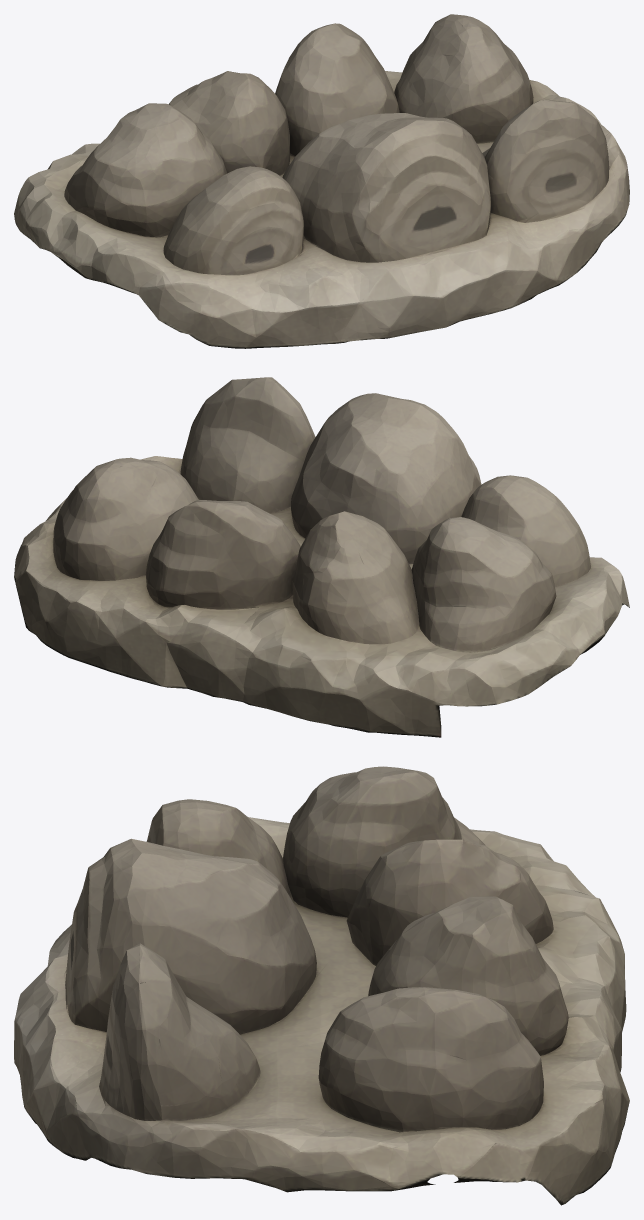
3 views of the same model, one above another, from view 1: azimuth 30°, elevation 25°; view 2: azimuth 150°, elevation 25°; view 3: azimuth 270°, elevation 25° (orthographic). The views are drawn at different scales.
Parts seen in each view (by area): view 1: world; view 2: world; view 3: world.
Boxes of the visible parts, left/top/right/bottom form: world: left=14, top=14, right=629, bottom=348; world: left=14, top=377, right=629, bottom=737; world: left=14, top=766, right=629, bottom=1205.
Size of the model in its own units: 0.35 by 0.1051 by 0.2621.
Materials: 1 (1 with a texture image).
